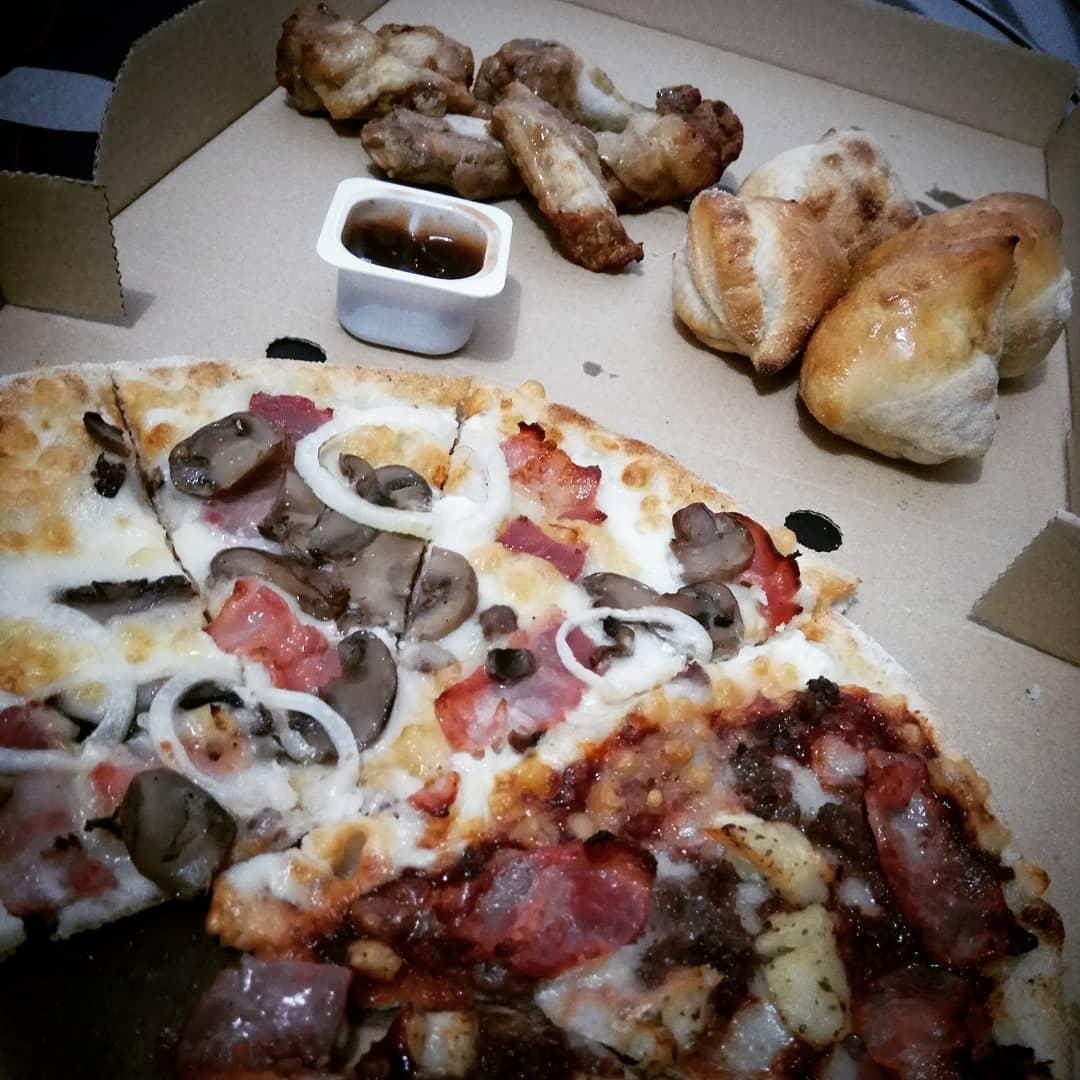Ham: (863, 747, 1033, 955), (444, 825, 650, 968), (438, 621, 572, 758), (853, 967, 998, 1080), (500, 421, 604, 518)
Mushroom: (211, 545, 481, 641), (573, 578, 749, 664), (289, 462, 439, 555), (170, 419, 290, 503), (663, 499, 758, 578)
Pizza: (0, 362, 1080, 1080)
